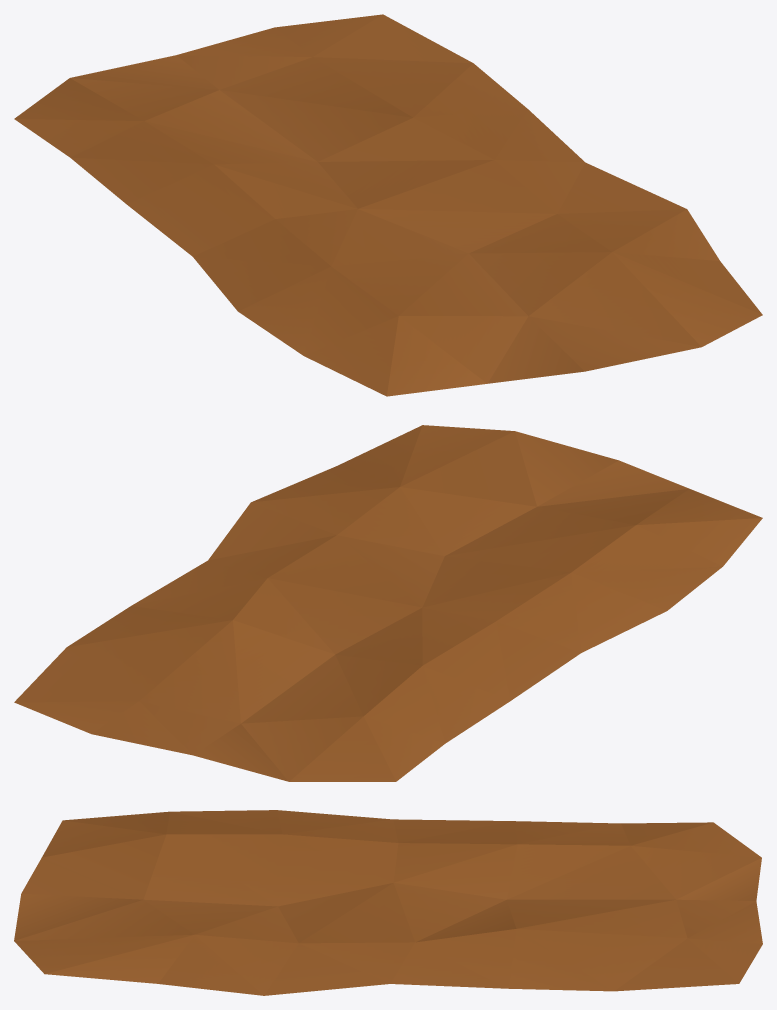
File: cGround_C_9__.fbx
The picture shows the model from 3 angles, top to bottom: view 1: azimuth 30°, elevation 25°; view 2: azimuth 150°, elevation 25°; view 3: azimuth 270°, elevation 25°; orthographic projection. The views are drawn at different scales.
Parts seen in each view (by area): view 1: cGround_C_9; view 2: cGround_C_9; view 3: cGround_C_9.
Part boxes in pixels (x1,y1,x2,y2): cGround_C_9: [14, 14, 762, 396]; cGround_C_9: [14, 425, 762, 781]; cGround_C_9: [14, 810, 762, 995].
Bounding box in the file's own units: 1009 × 41.33 × 1718.
